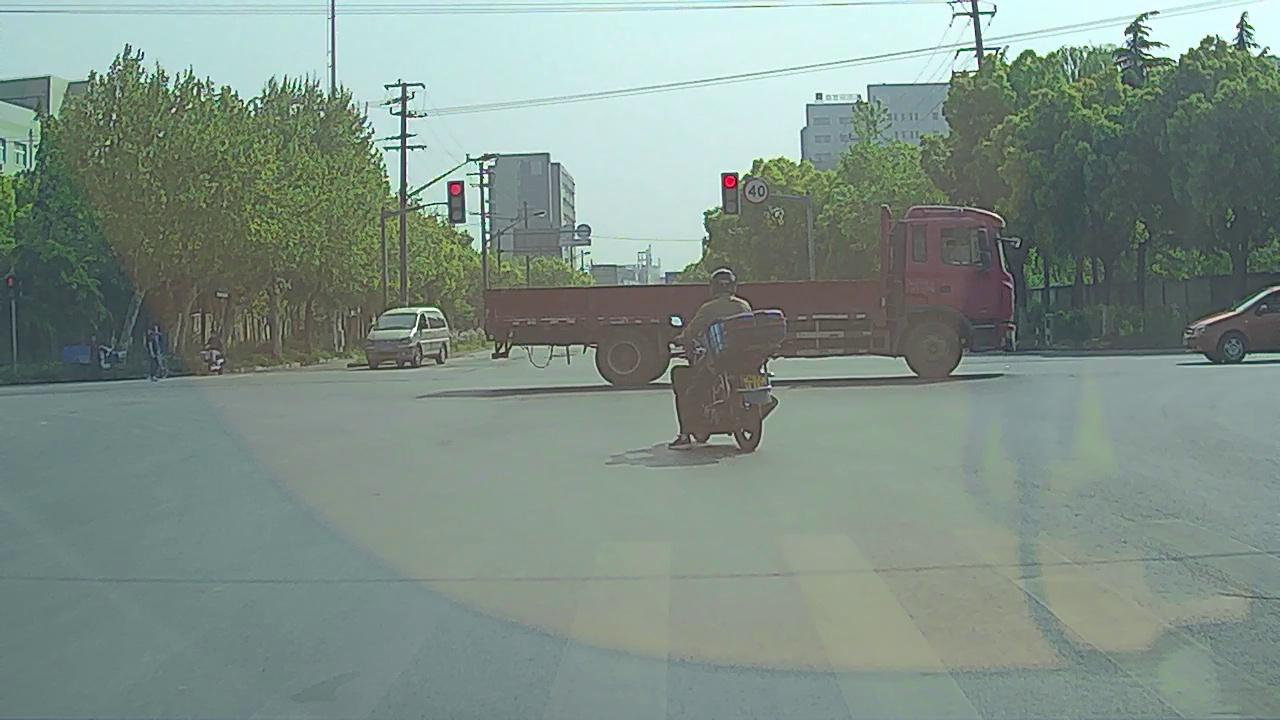traffic_light: (722, 174, 740, 215), (448, 181, 465, 223)
